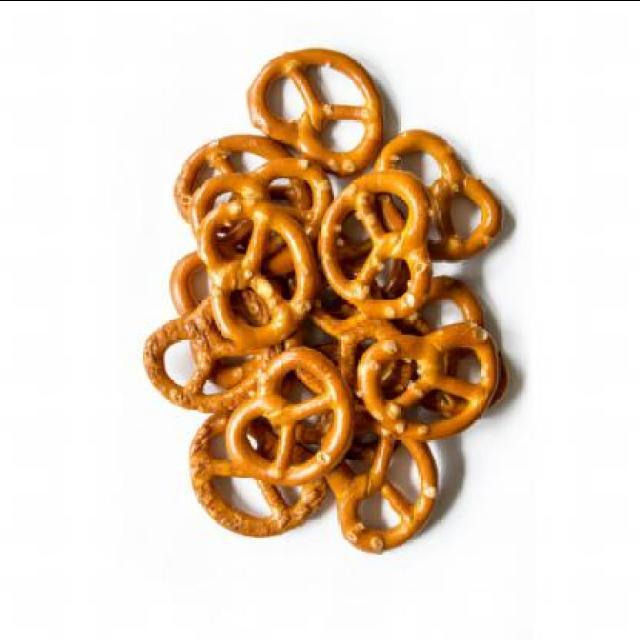Salatini packaged: (142, 42, 506, 553)
